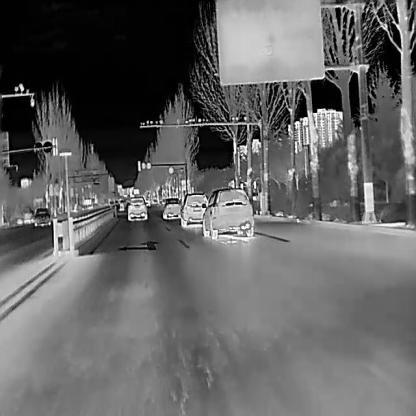car: (200, 186, 253, 238), (179, 191, 207, 226), (126, 195, 146, 220), (161, 196, 180, 219), (32, 206, 51, 225)
